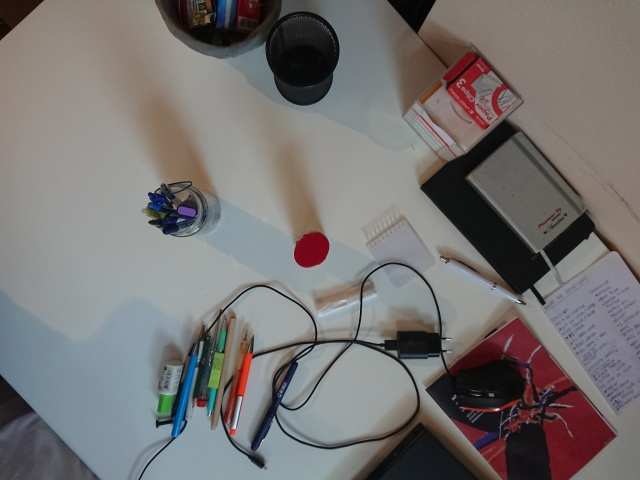Kotanyi Curry Spices Mix 70g: (292, 230, 332, 270)
